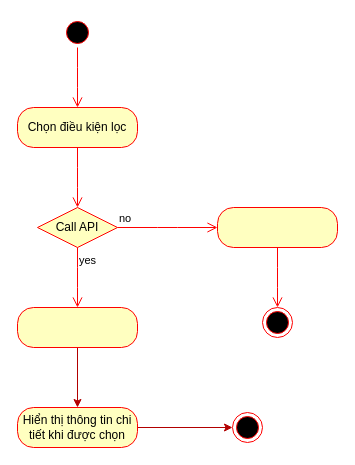
Some shapes in this 355 by 465 pixel diagram are drawn without their labels. The shapes that lost their labels are listed below. From the top down, each one's box as (x1, y1, x2, y2) in pixels, then its label:
(216, 206, 338, 248): Báo lỗi
(16, 306, 138, 348): Hiển thị bản đồ
